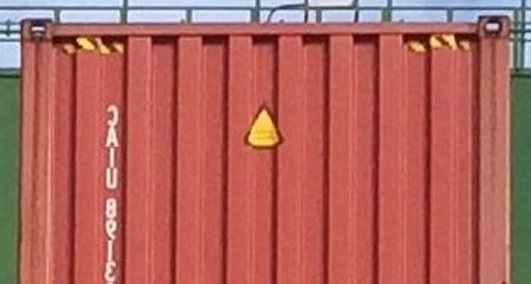container_no_door: (20, 16, 514, 281)
